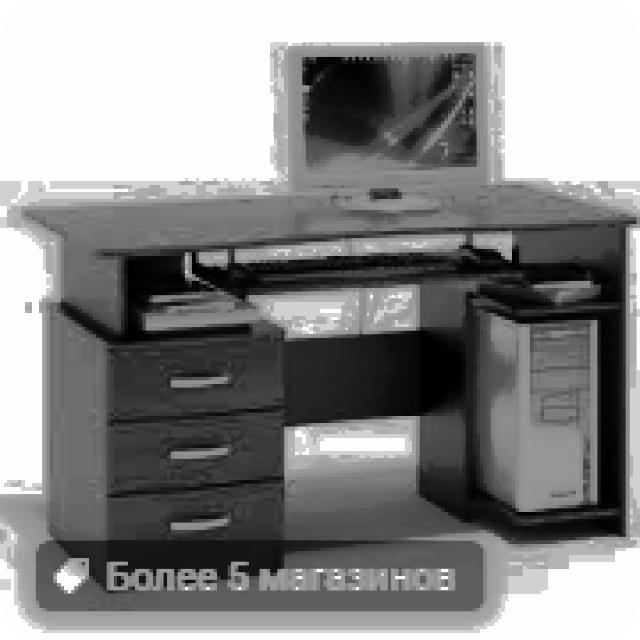table: (18, 181, 636, 583)
